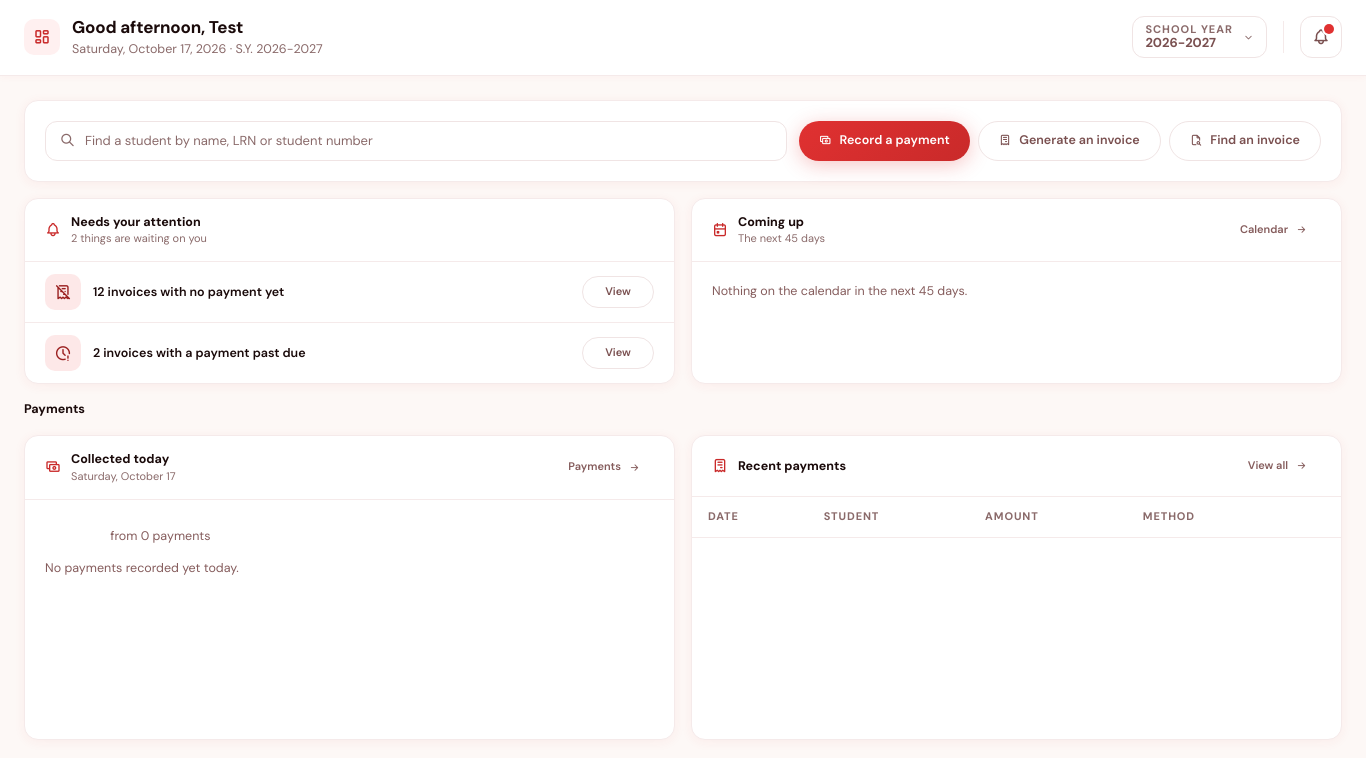
Scenario: DashboardPage — notifications by role › tells accounting about unpaid and overdue invoices, not enrollments or applications
What coordinates should you click on to do the following:
click the button named "Notifications"
I would click on:
 (1321, 37)
Its box is [1300, 16, 1342, 58].
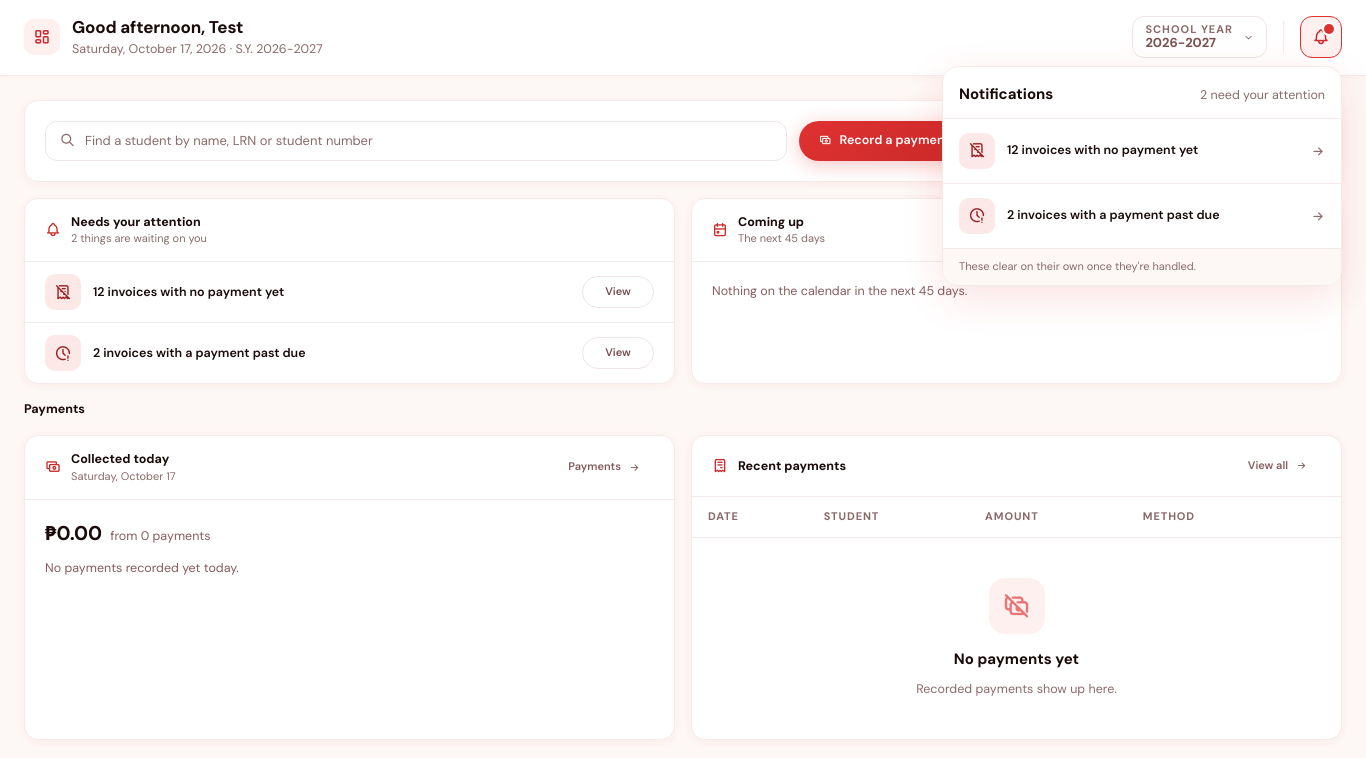
Expected: the link "12 invoices with no payment yet" is shown, [959, 133, 1325, 169]
Expected: the link "2 invoices with a payment past due" is shown, [959, 198, 1325, 234]
